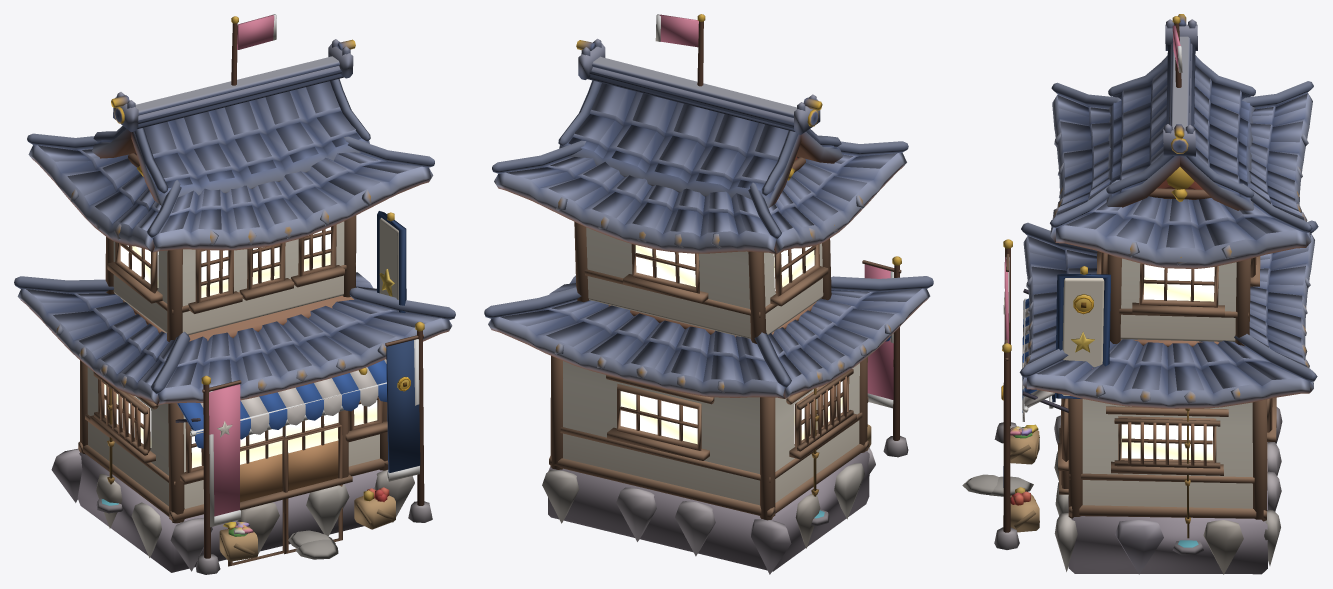
Rendered from shop-3-v5.glb.
3 views of the same model, side by side, from view 1: azimuth 30°, elevation 25°; view 2: azimuth 150°, elevation 25°; view 3: azimuth 270°, elevation 25° (orthographic). The views are drawn at different scales.
Parts seen in each view (by area): view 1: shop, window_glow; view 2: shop, window_glow; view 3: shop, window_glow.
Boxes of the visible parts, x1,y1,x2,y2 form: shop: (14,14,455,574); window_glow: (104,227,377,468); shop: (484,14,933,574); window_glow: (620,245,842,444); shop: (962,14,1318,574); window_glow: (1121,264,1214,460).
Bounding box in the file's own units: 3.58 × 5.57 × 3.54.
